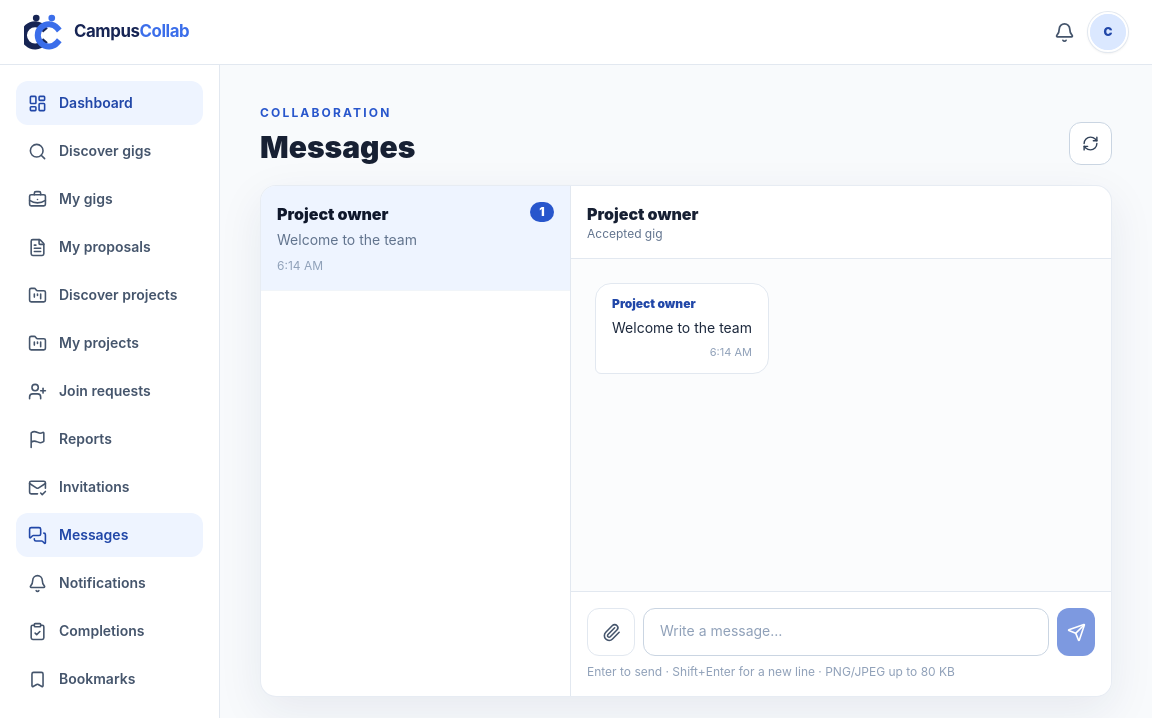
messaging workspace › loads history, records read state, and sends plain text
This screenshot has width=1152, height=718.
Expected: the 1st text "Welcome to the team" is shown, top-left (277, 231), bottom-right (417, 248)
Type "Hello there" into the text box labelled "message" at (846, 632), box top-left (643, 608), bottom-right (1049, 656)
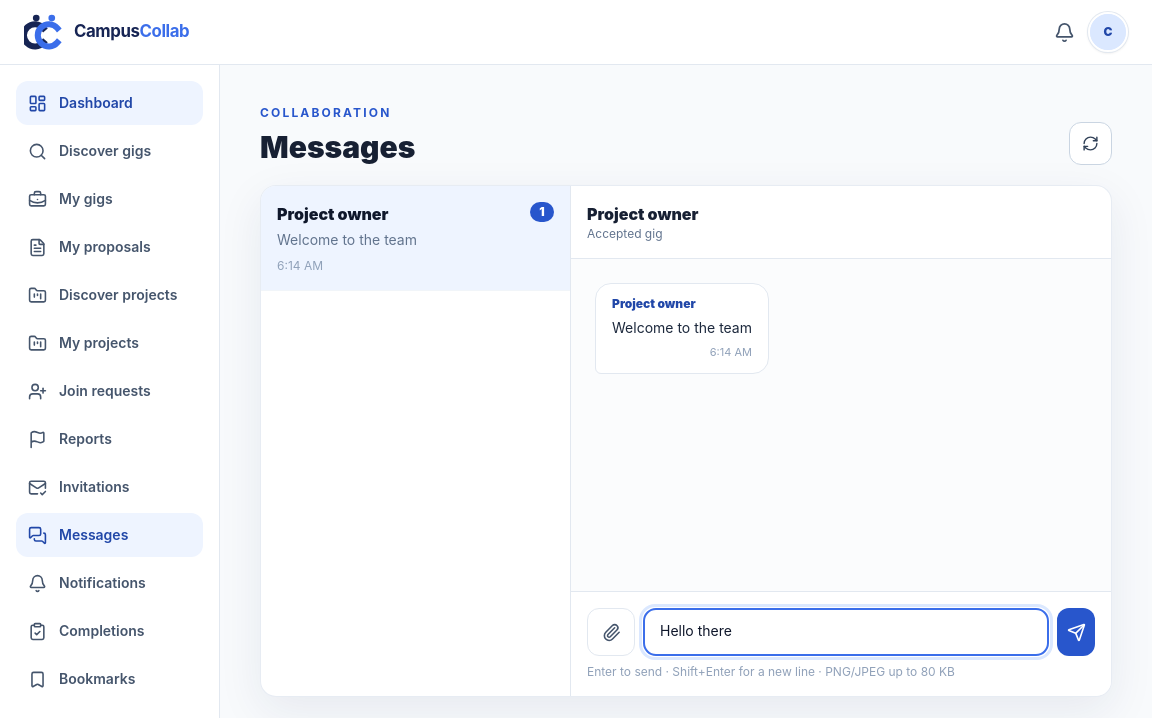
Click the button named "Send message" at (1076, 632), box top-left (1057, 608), bottom-right (1095, 656)
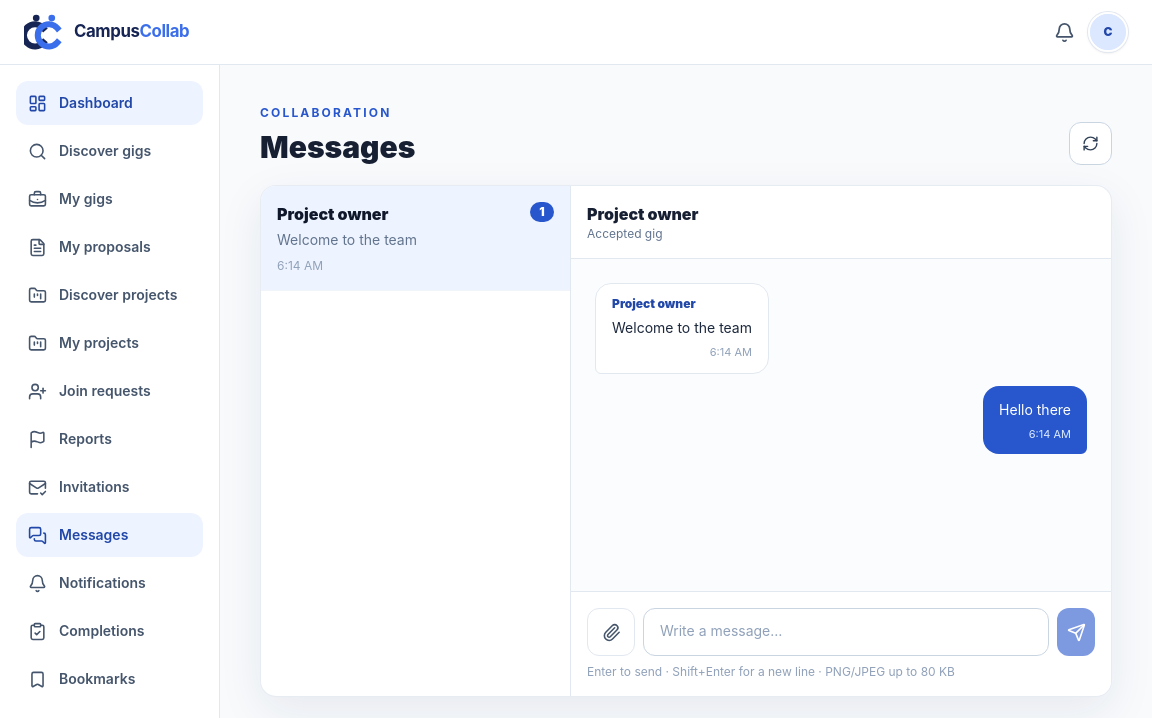
Result: the text "Hello there" is shown at top-left (999, 398), bottom-right (1071, 422)
